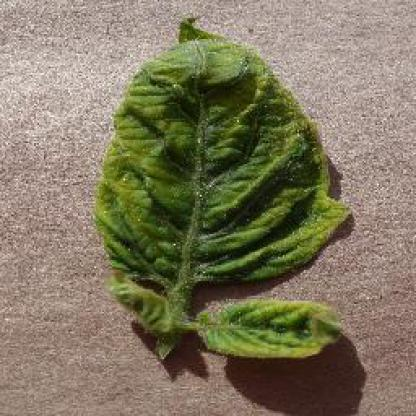bad leaf: (101, 7, 340, 371)
